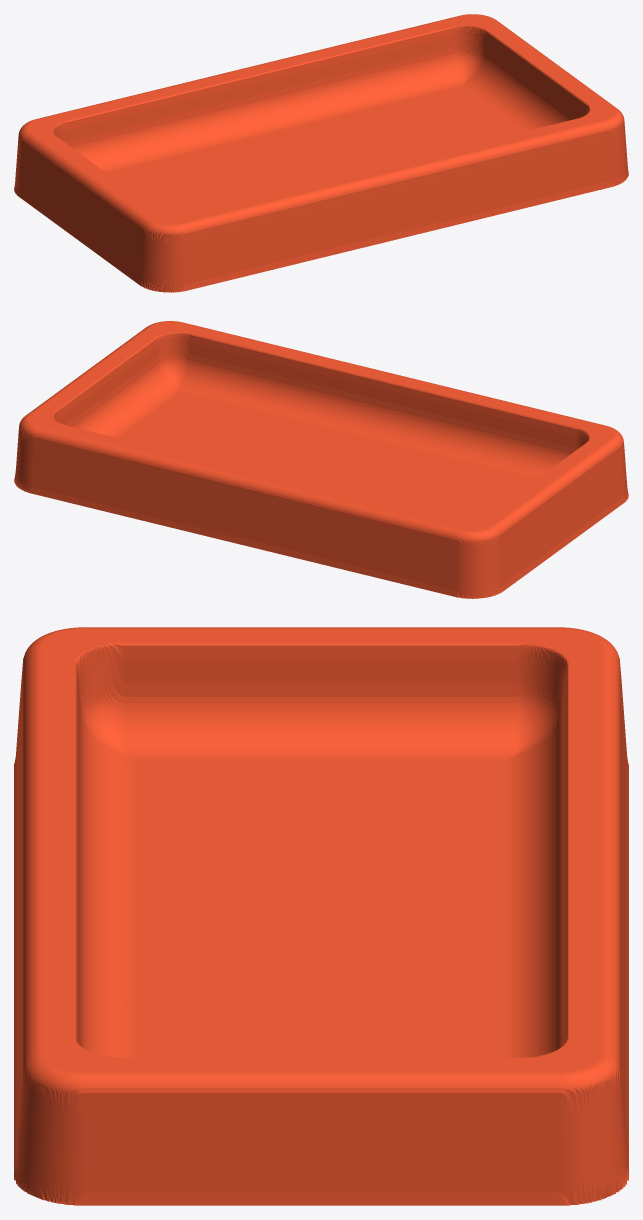
The model's file is mold.glb.
3 views of the same model, one above another, from view 1: azimuth 30°, elevation 25°; view 2: azimuth 150°, elevation 25°; view 3: azimuth 270°, elevation 25° (orthographic). The views are drawn at different scales.
Visible parts, largest first — view 1: geometry_0; view 2: geometry_0; view 3: geometry_0.
Boxes of the visible parts, x1=… form: geometry_0: x1=14, y1=14, x2=628, y2=292; geometry_0: x1=14, y1=321, x2=628, y2=598; geometry_0: x1=14, y1=627, x2=628, y2=1205.
Bounding box in the file's own units: 0.1435 × 0.0175 × 0.08.
